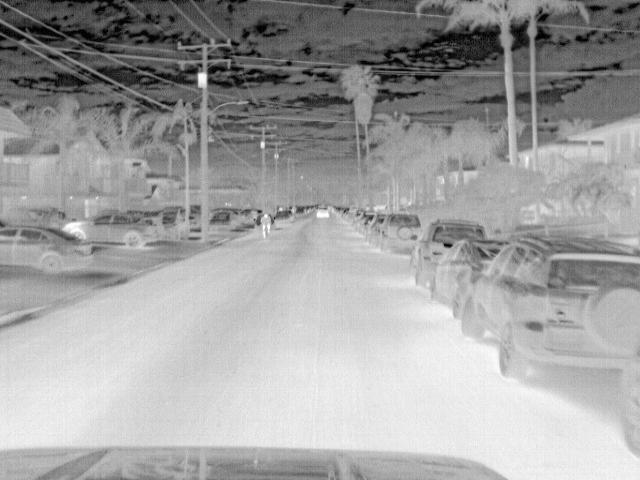car: (460, 236, 636, 382), (415, 218, 487, 289), (1, 224, 95, 277), (432, 237, 502, 305), (63, 211, 161, 247), (379, 213, 423, 253), (367, 213, 391, 243), (162, 210, 182, 242), (208, 211, 238, 231), (269, 211, 293, 228), (314, 204, 331, 220)
person: (259, 211, 271, 239)
